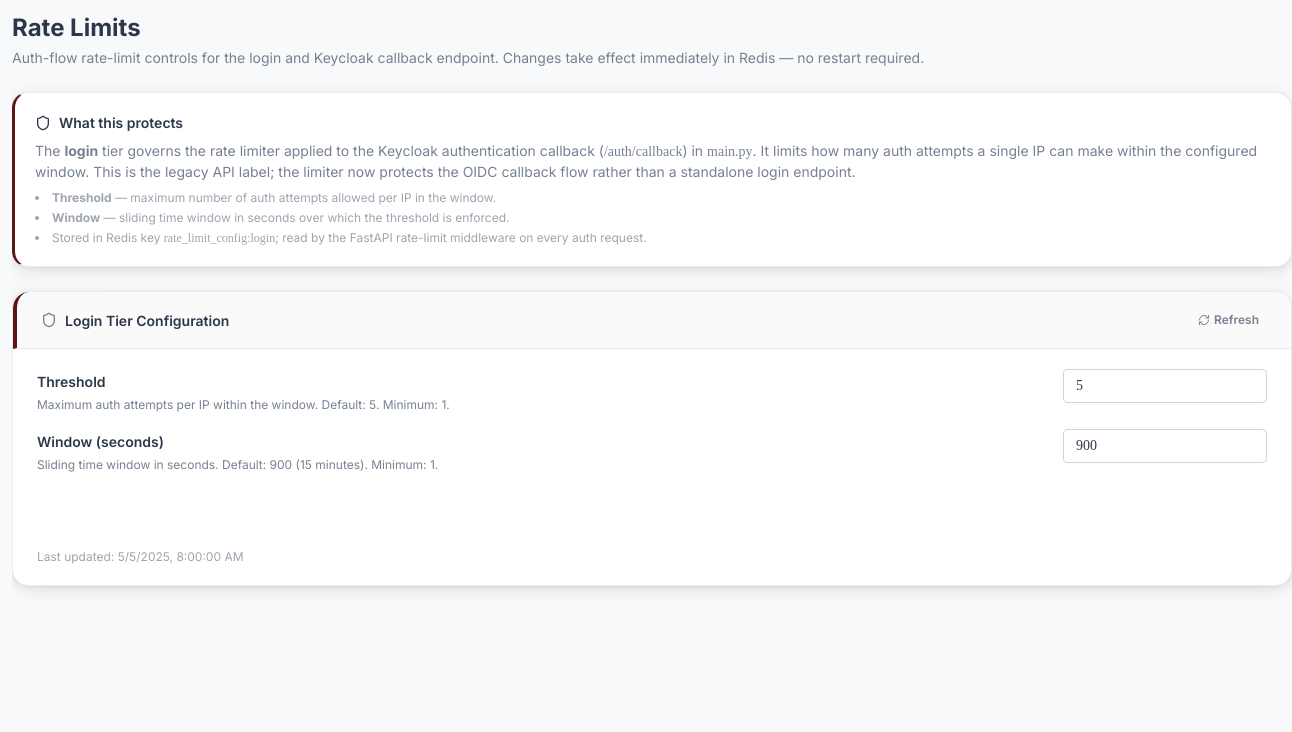
RateLimitsPage — save › shows error message on save failure
Replace the text in the 1st number field showing "5" with "20". click: {"x": 1165, "y": 386}
box: [1063,369,1267,403]
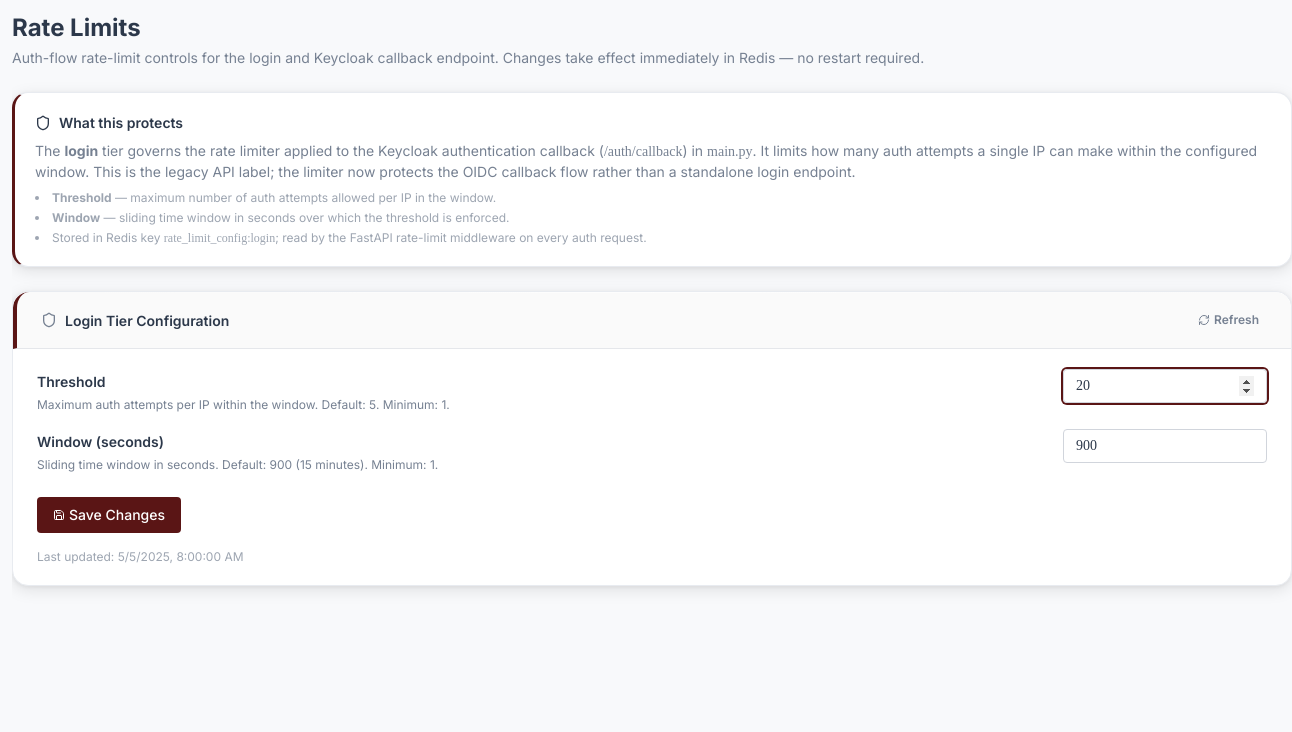
Click the button "Save Changes". click: {"x": 109, "y": 515}
box: [37,497,181,533]
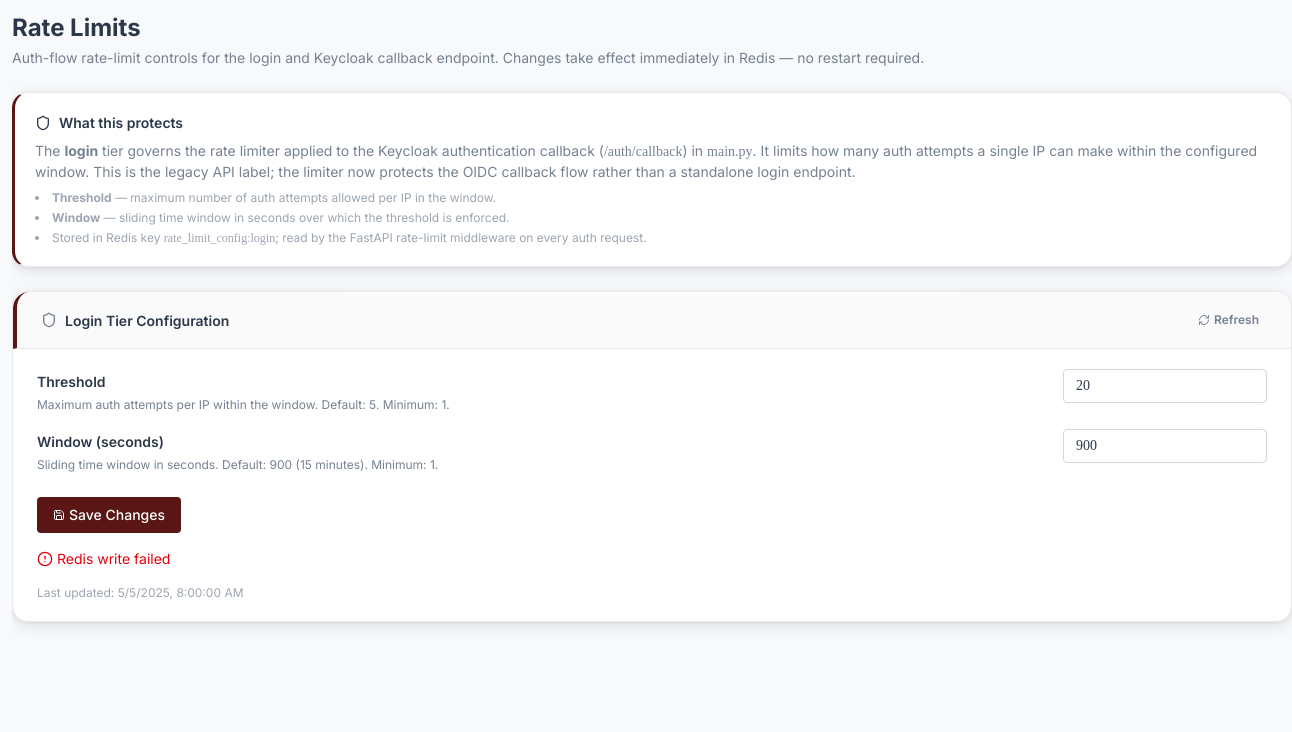
Expected: the text "Redis write failed" is shown, [37,550,170,567]
